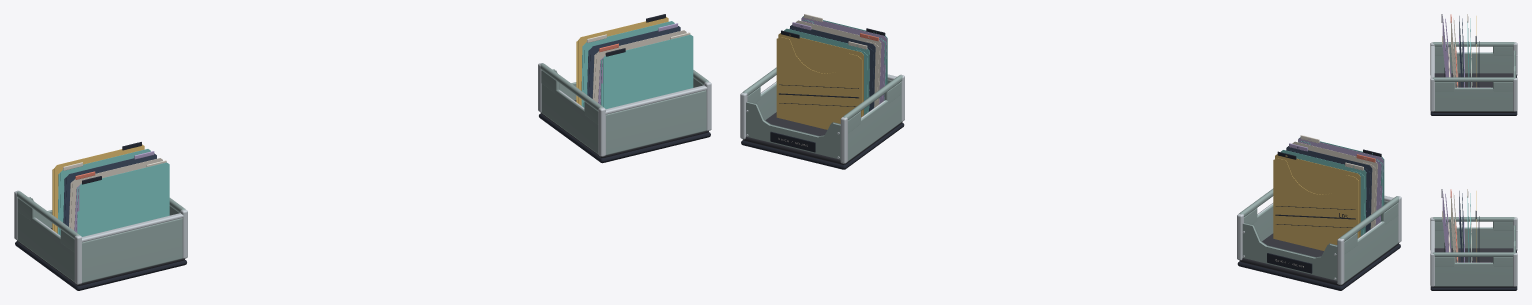
Rendered from booth-crates.fbx.
3 renders of one model, left to right at view 1: azimuth 30°, elevation 25°; view 2: azimuth 150°, elevation 25°; view 3: azimuth 270°, elevation 25°, orthographic. The views are drawn at different scales.
Visible parts, largest first — view 1: BoothCrates; view 2: BoothCrates; view 3: BoothCrates.
Part boxes in pixels (<box>): BoothCrates: <box>14,14,711,290</box>; BoothCrates: <box>740,14,1401,290</box>; BoothCrates: <box>1430,14,1517,290</box>.
Bounding box in the file's own units: 4.78 × 0.83 × 0.7365.
